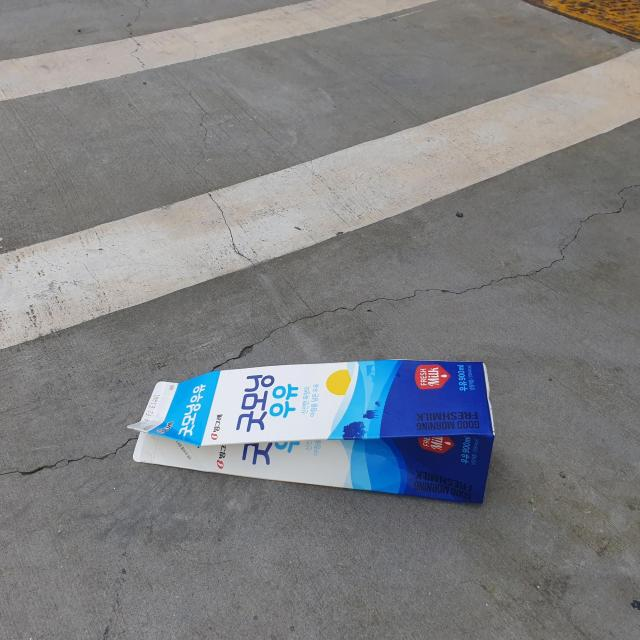paperpack: (128, 360, 495, 504)
